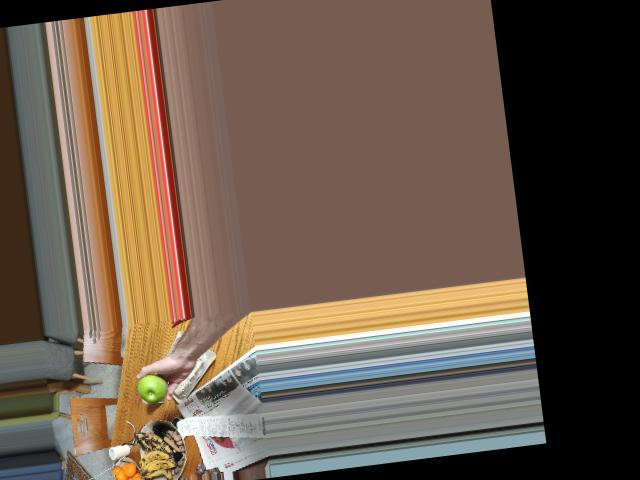apple: (134, 372, 170, 403)
